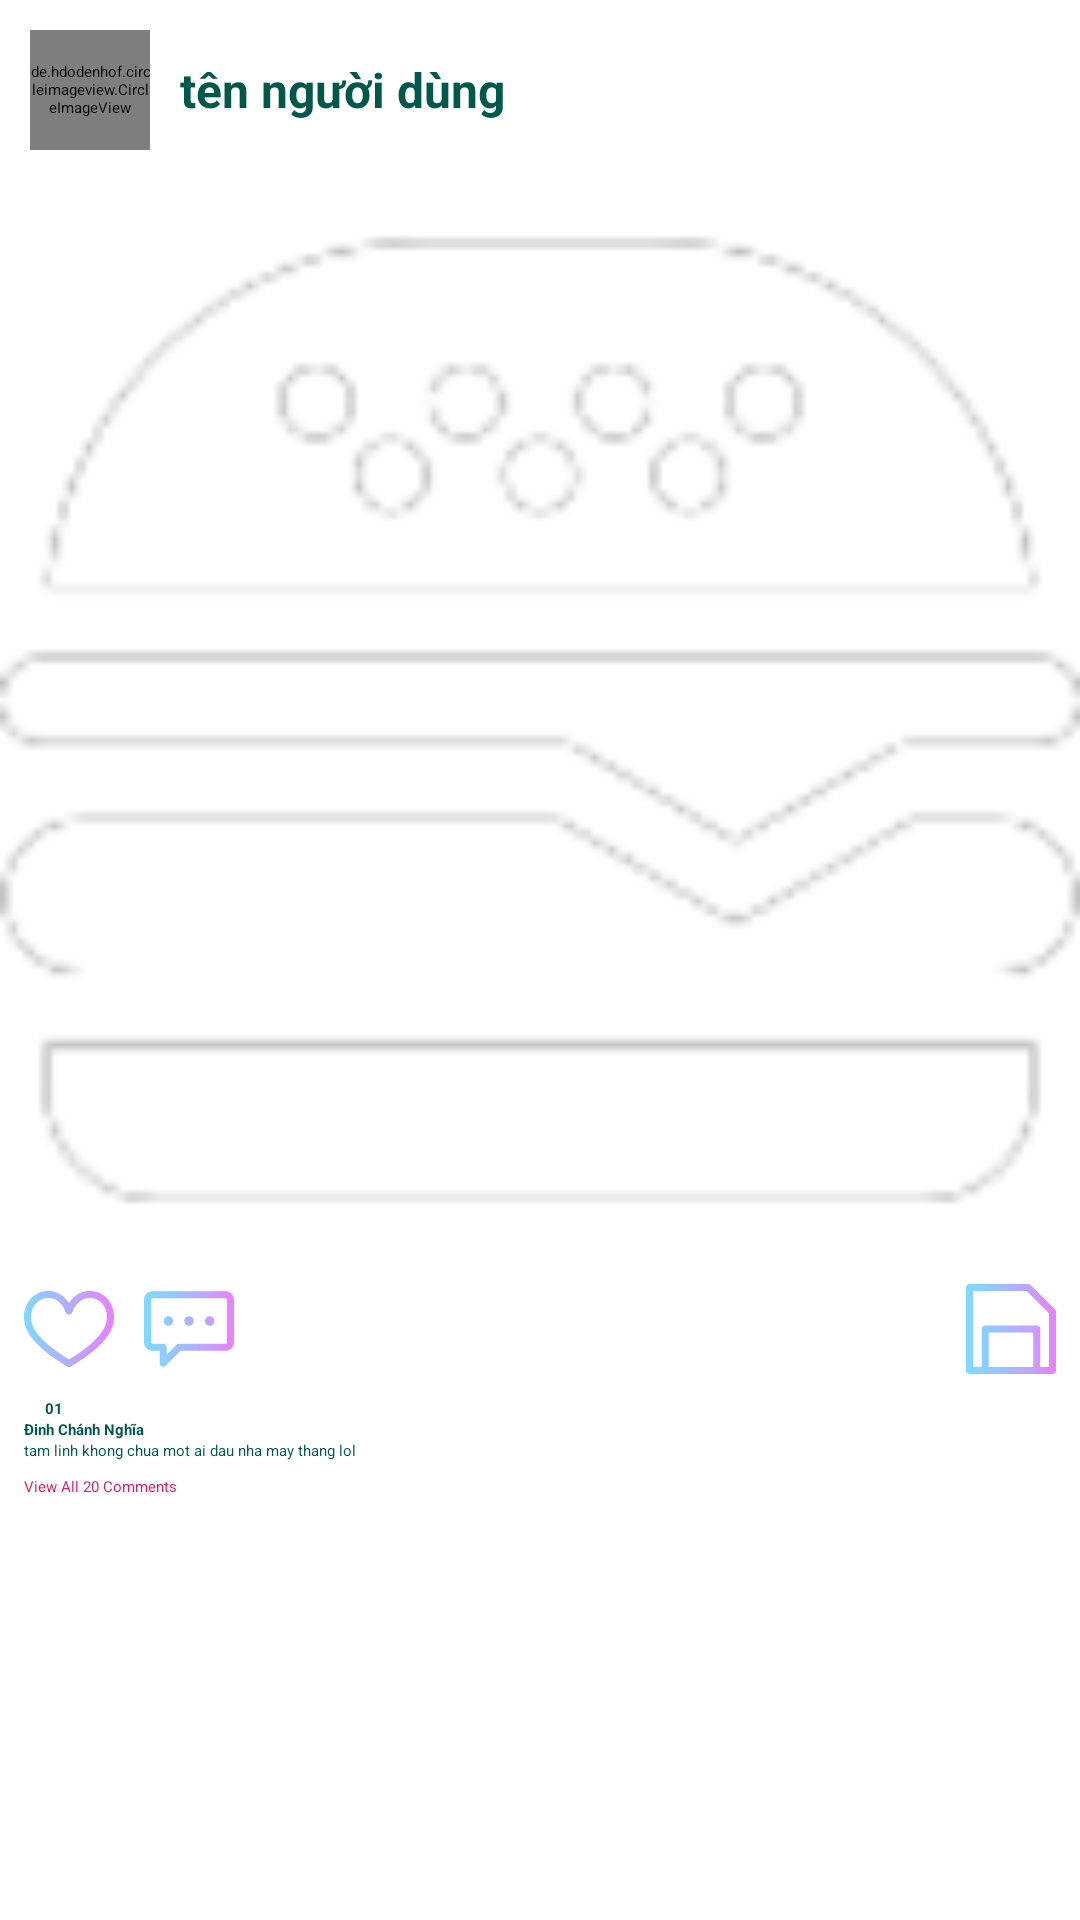

Named icons in this screenshot (1080 x 1920) and their bounding boxes, [x1,y1,x2,y2]:
like: [24,1291,114,1367]
save: [966,1284,1056,1374]
